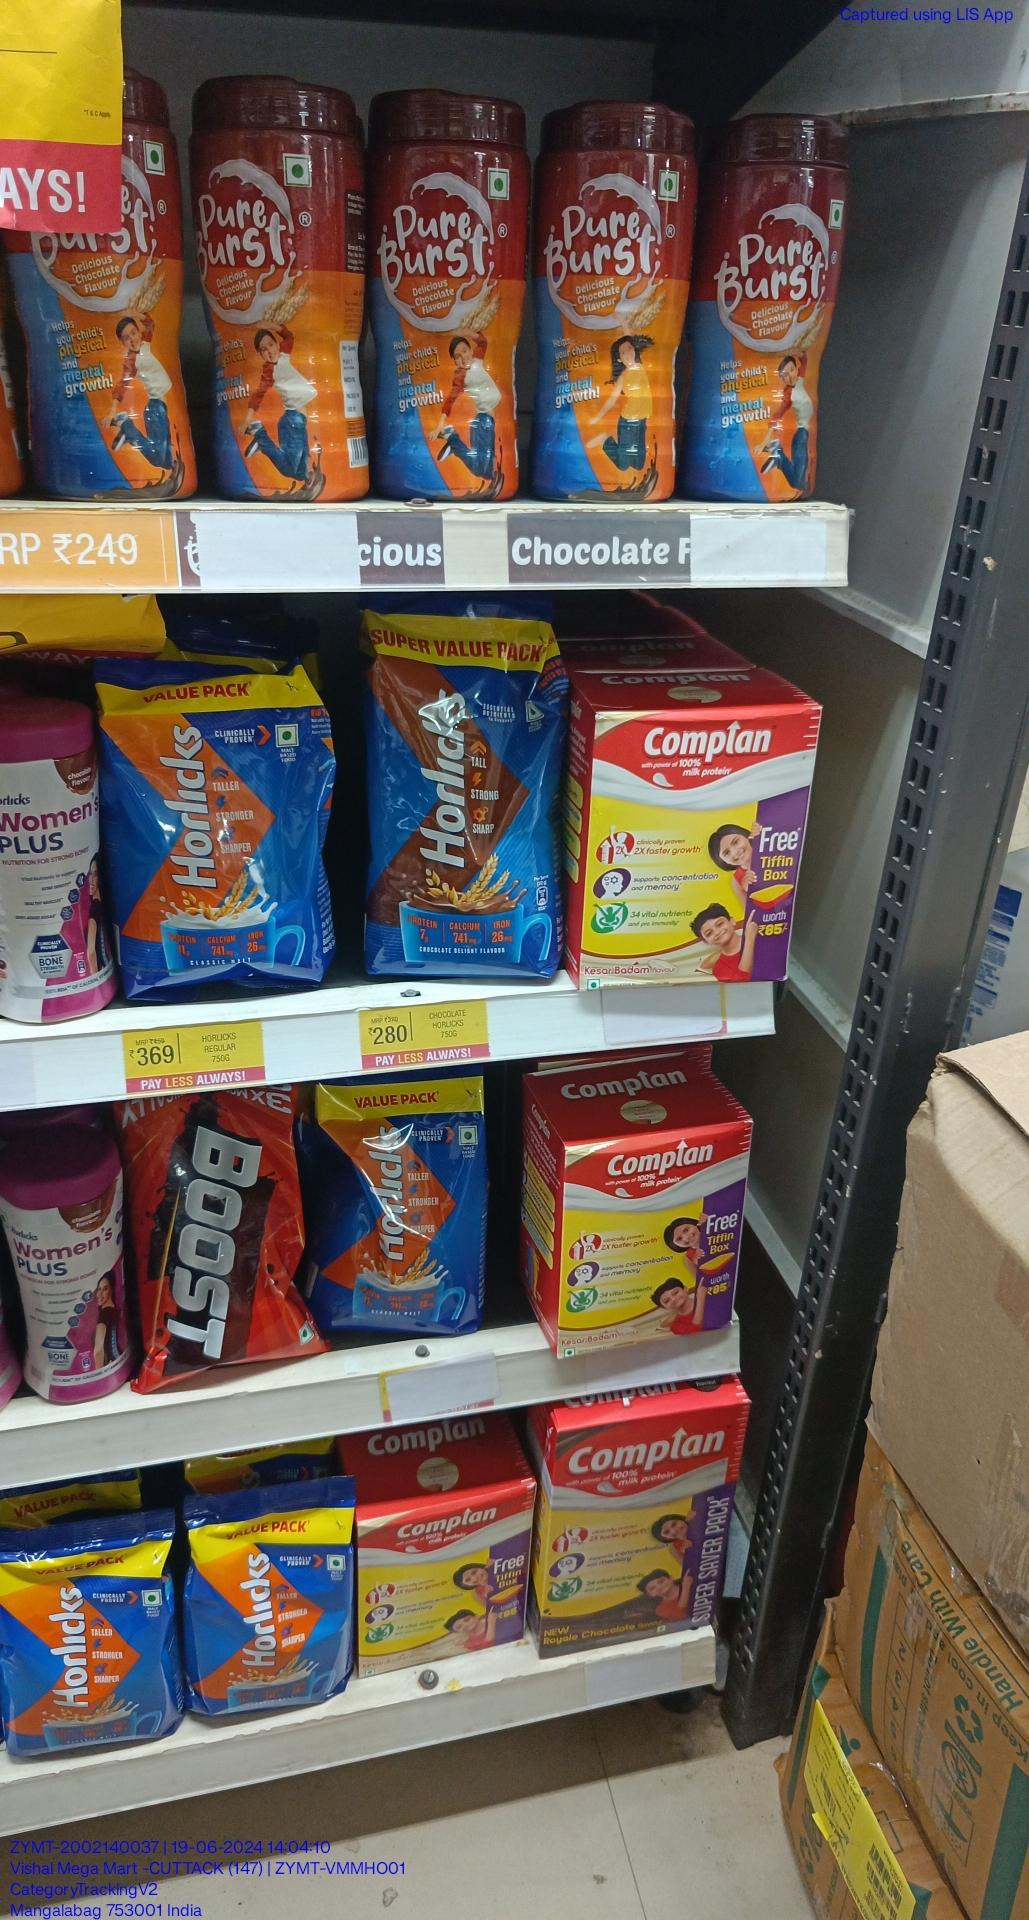COMPLAN_CHOCOLATE_1_KG_PACK: (550, 1418, 733, 1658)
HORLICK_CHOCOLATE_750_G_POUCH: (366, 615, 553, 975)
HORLICK_CLASSIC_MALT_750_G_POUCH: (102, 657, 323, 1002)
